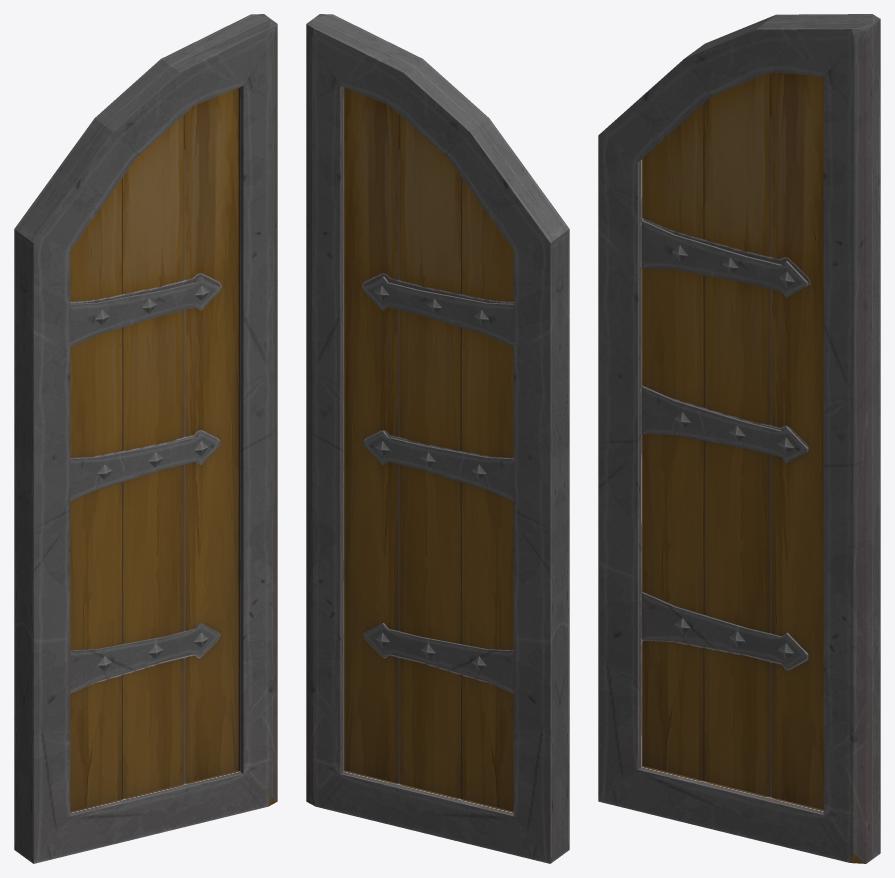
Rendered from AD_Door_A_02.fbx.
3 views of the same model, side by side, from view 1: azimuth 30°, elevation 25°; view 2: azimuth 150°, elevation 25°; view 3: azimuth 330°, elevation 25° (orthographic). The views are drawn at different scales.
Parts seen in each view (by area): view 1: AD_Door_A_02; view 2: AD_Door_A_02; view 3: AD_Door_A_02.
Part boxes in pixels (x1,y1,x2,y2): AD_Door_A_02: (14, 14, 277, 863); AD_Door_A_02: (306, 14, 569, 863); AD_Door_A_02: (598, 14, 880, 863).
Bounding box in the file's own units: 196 × 589 × 26.46.
1 material, 1 textured.
